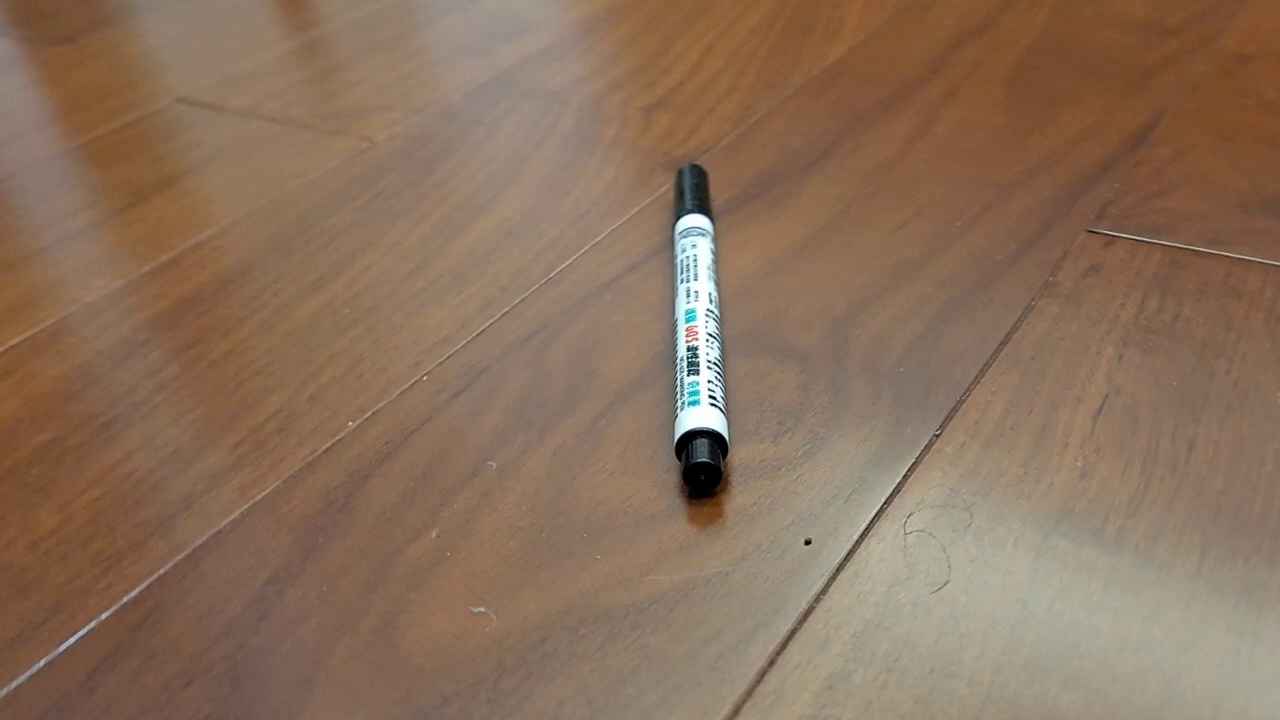pen: (670, 162, 733, 496)
